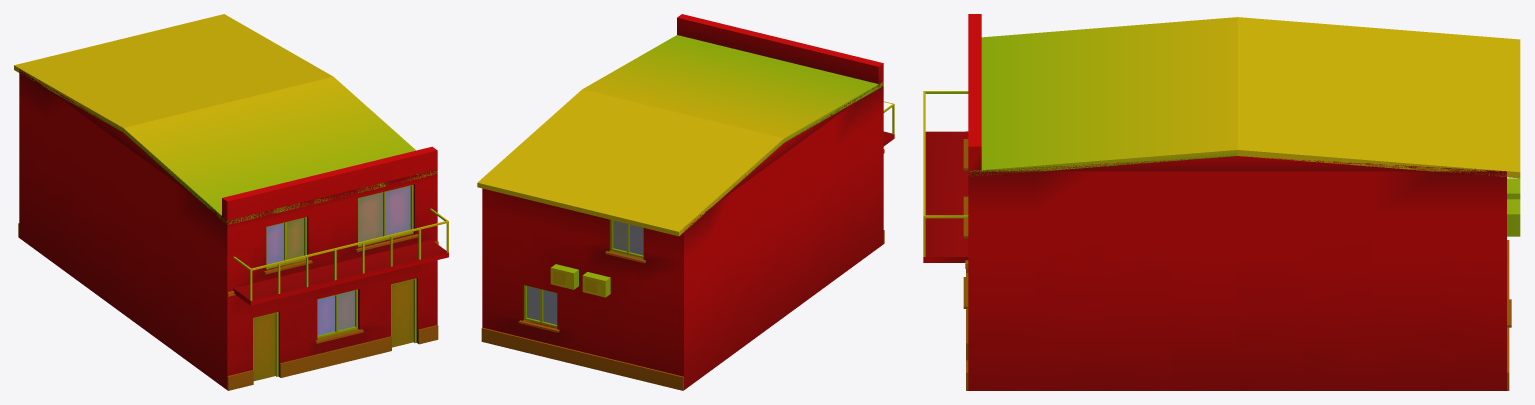
The model's file is townhouse.glb.
3 renders of one model, left to right at view 1: azimuth 30°, elevation 25°; view 2: azimuth 150°, elevation 25°; view 3: azimuth 270°, elevation 25°, orthographic. The views are drawn at different scales.
Visible parts, largest first — view 1: townhouse__flat__LOD0; view 2: townhouse__flat__LOD0; view 3: townhouse__flat__LOD0.
Part boxes in pixels (x1,y1,x2,y2): townhouse__flat__LOD0: (14, 14, 448, 390); townhouse__flat__LOD0: (477, 14, 894, 390); townhouse__flat__LOD0: (923, 14, 1520, 390).
Size of what is drawn, in the model's own units: 7 by 6 by 13.3.
